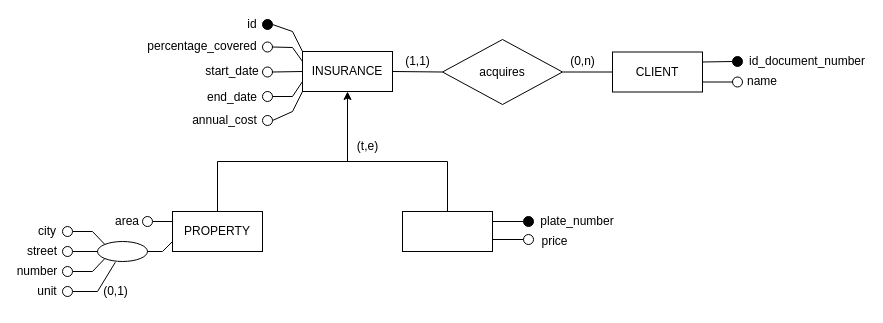
Some shapes in this 883 by 323 pixel diagram are drawn without their labels. The centre of each missing label's shape, as x and y in pixels:
address: the point at 122,251
VEHICLE: the point at 447,231
